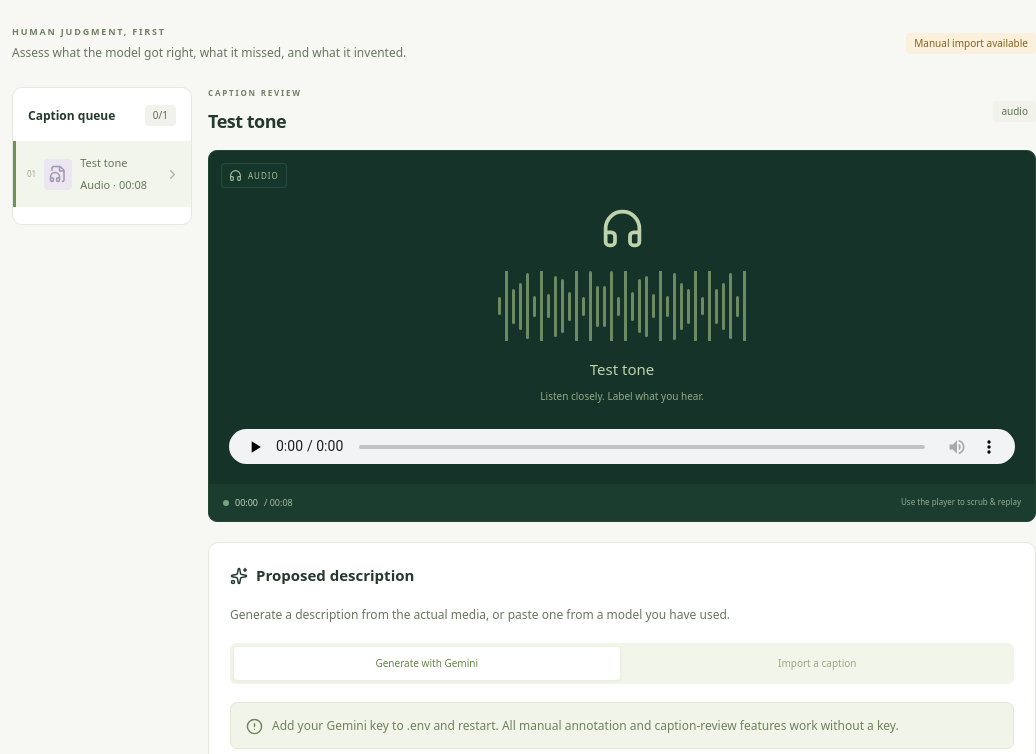
Caption evaluation interactions › keeps Gemini unavailable without configuration and does not invent a caption
This screenshot has width=1036, height=754.
Expected: the text "Add your Gemini key to .env" is shown, [272,717,899,734]
Click the button "Import a caption". click: click(817, 663)
box: [624,647,1010,680]
(page scrolled)
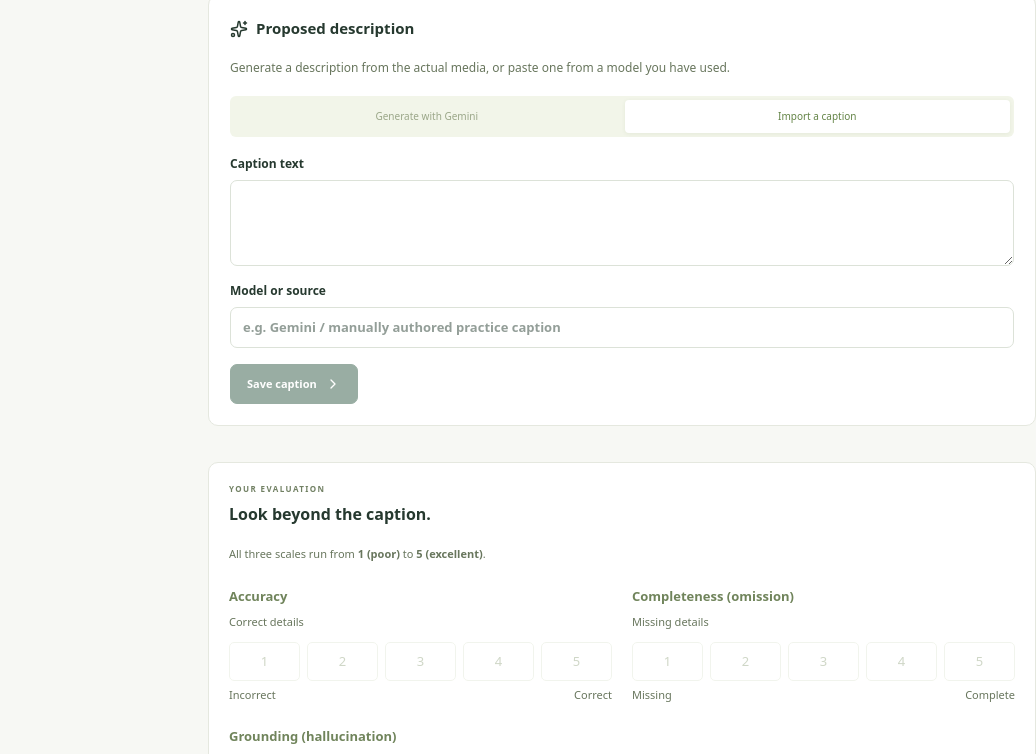
Expected: the button "Save caption" is disabled, [230,364,358,404]
Result: the text box labelled "Caption text" is shown at [230,180,1014,266]
